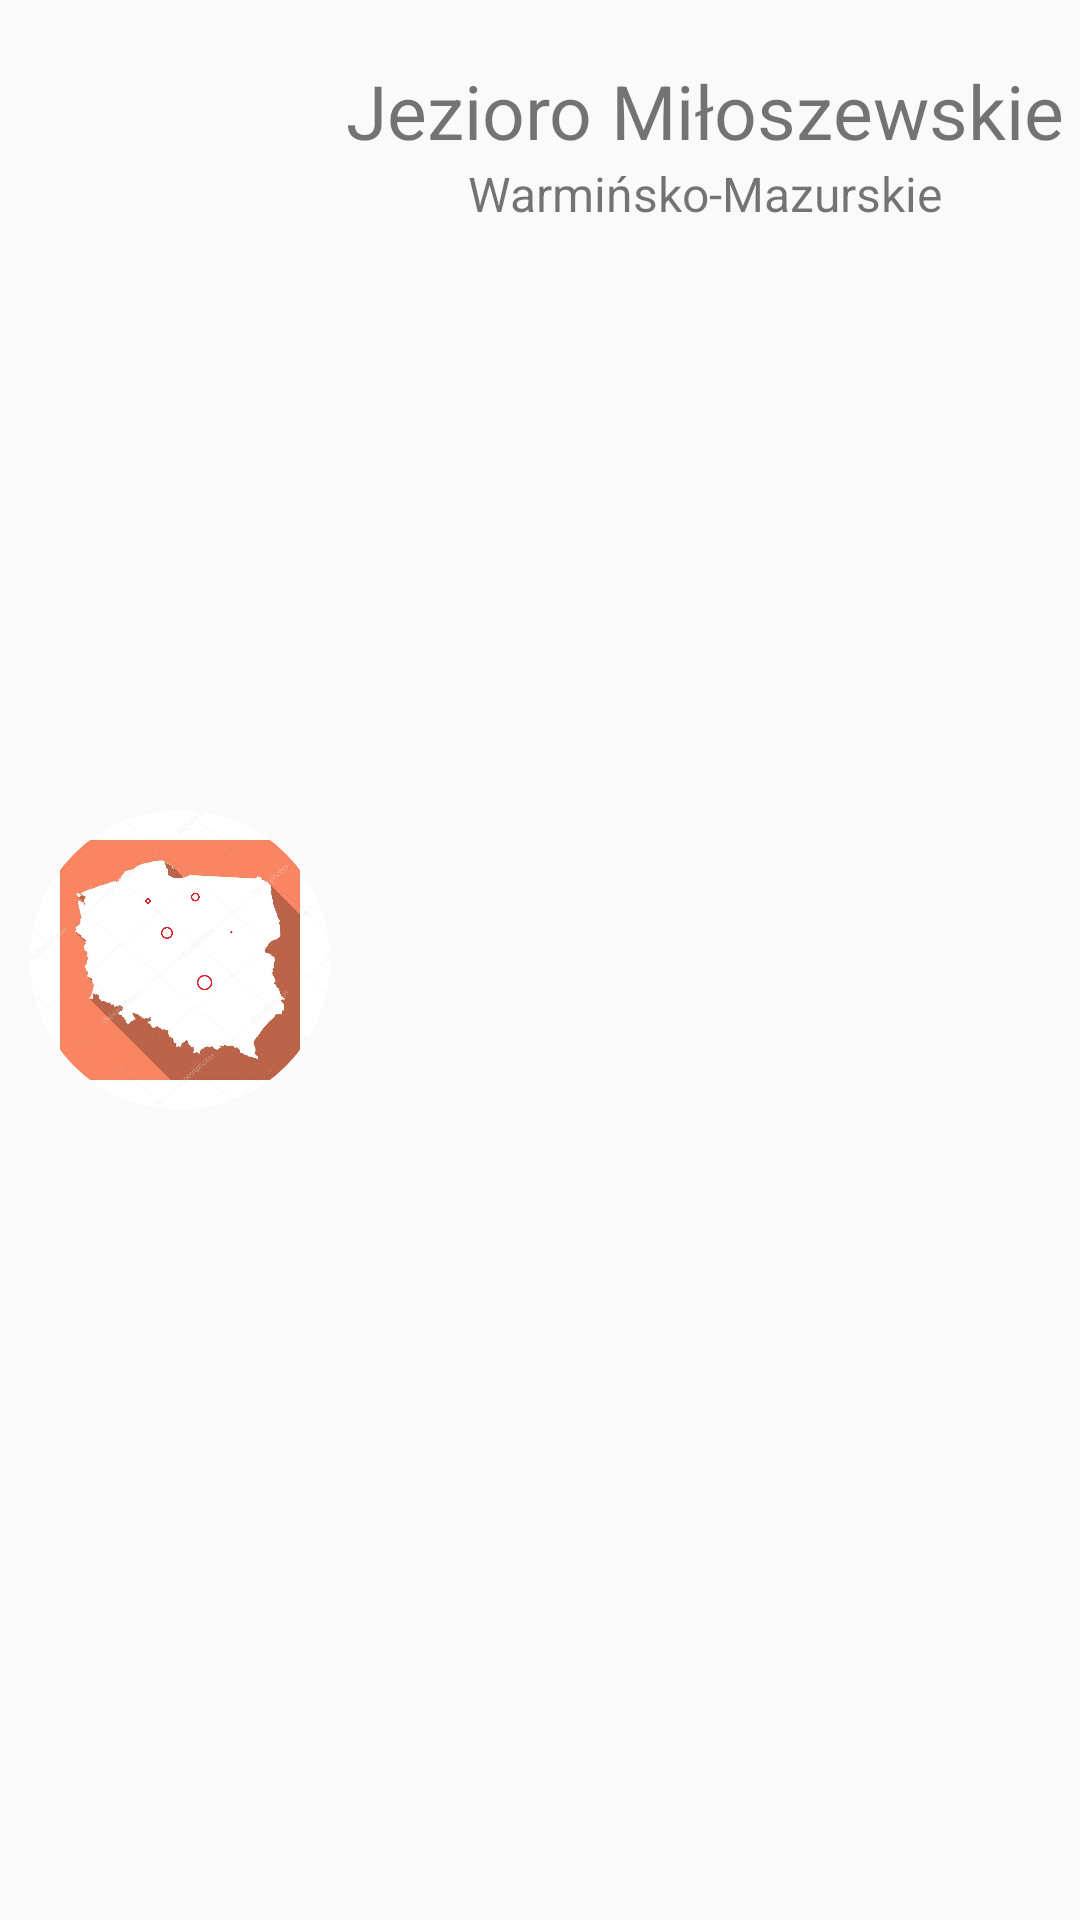

Icons on this 1080 × 1920 Android screen, each with its box as (x1, y1, x2, y2):
poland: (60, 840, 300, 1080)
